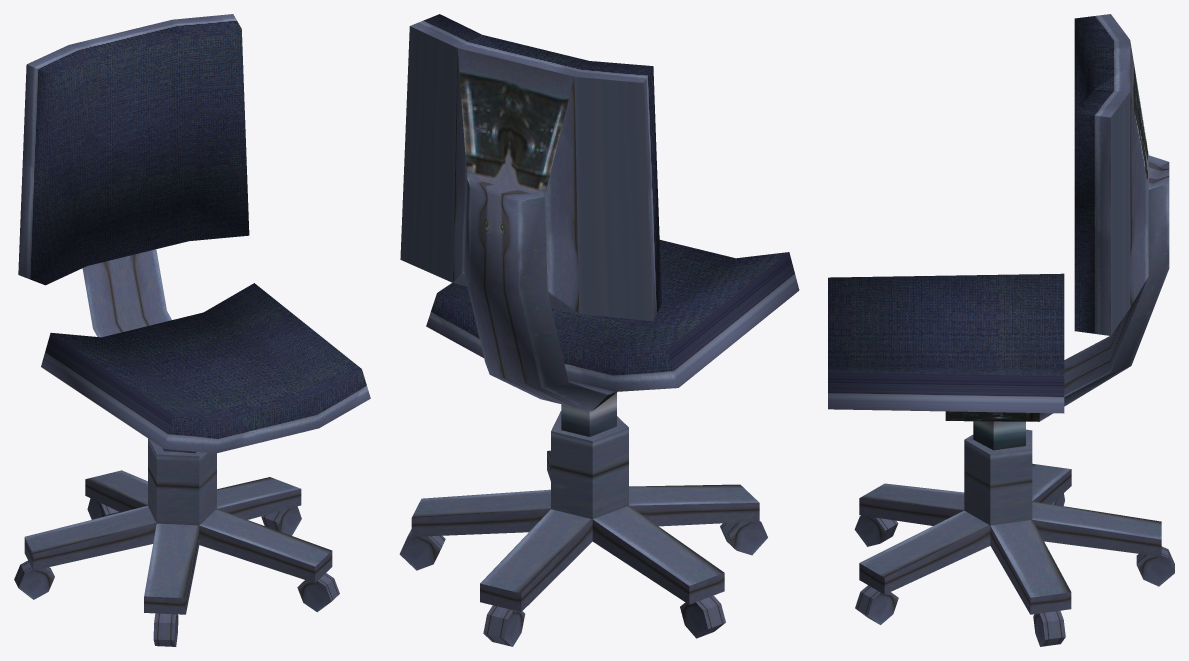
File: M_Home_Garden_LODchar.fbx
3 views of the same model, side by side, from view 1: azimuth 30°, elevation 25°; view 2: azimuth 150°, elevation 25°; view 3: azimuth 270°, elevation 25° (orthographic). The views are drawn at different scales.
Visible parts, largest first — view 1: M_Home_Garden_LODchar; view 2: M_Home_Garden_LODchar; view 3: M_Home_Garden_LODchar.
Boxes of the visible parts, x1=… form: M_Home_Garden_LODchar: x1=14, y1=14, x2=370, y2=646; M_Home_Garden_LODchar: x1=399, y1=14, x2=799, y2=646; M_Home_Garden_LODchar: x1=828, y1=14, x2=1174, y2=646.
Bounding box in the file's own units: 77.34 × 131 × 79.7.
